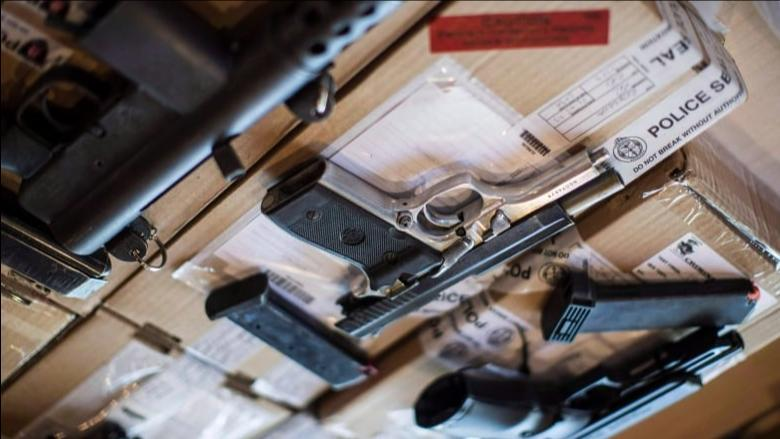gun: (0, 0, 404, 255), (255, 146, 624, 301), (412, 325, 747, 439)
